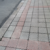zebra: (1, 15, 49, 45)
